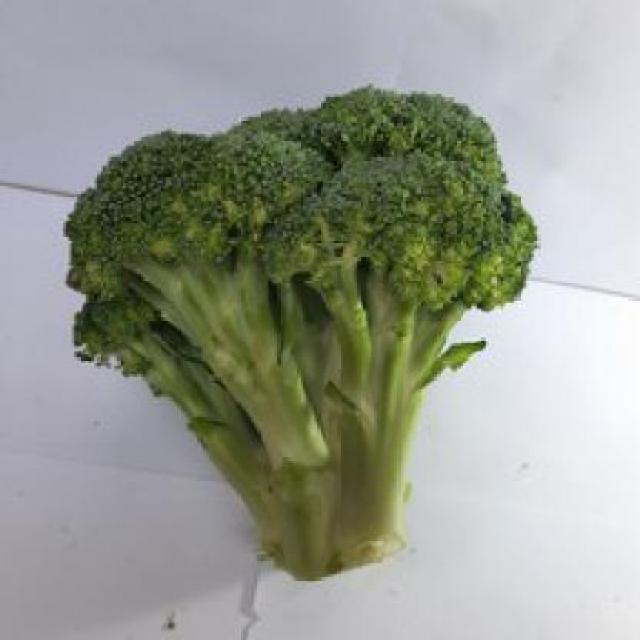broccoli: (69, 115, 540, 574)
